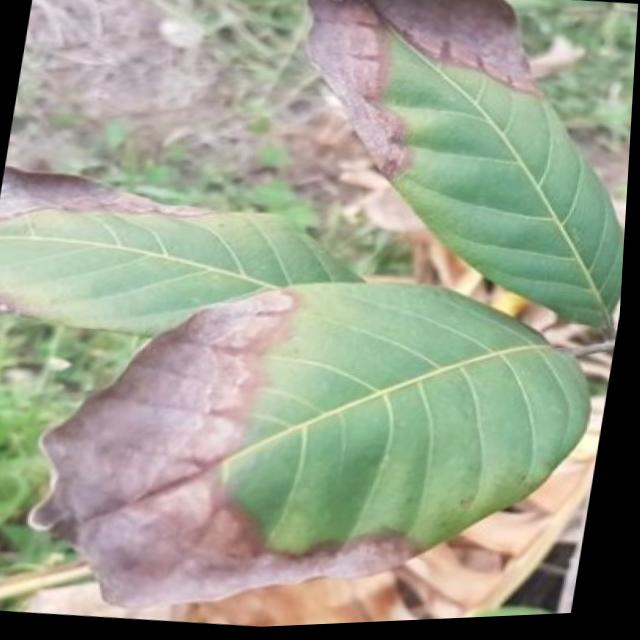Leaf Blight: (0, 195, 433, 633), (210, 0, 640, 204), (0, 106, 172, 318)
